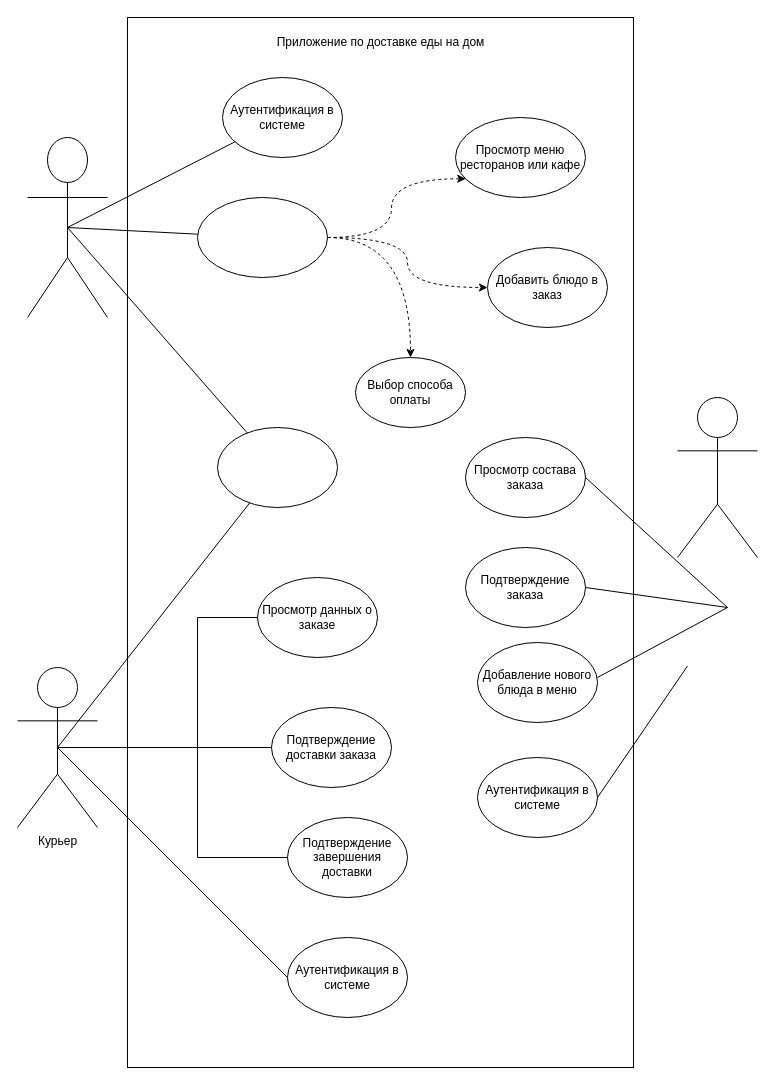
Image size: 775x1085. Some labels were removed from this diagram. Here are the shapes that lost their labels. From the top down, the centre of each, then its label:
pixel 67 227: Пользователь
pixel 262 237: Оформление заказа
pixel 277 467: Получение уведомления о готовности заказа
pixel 717 477: Ресторан
